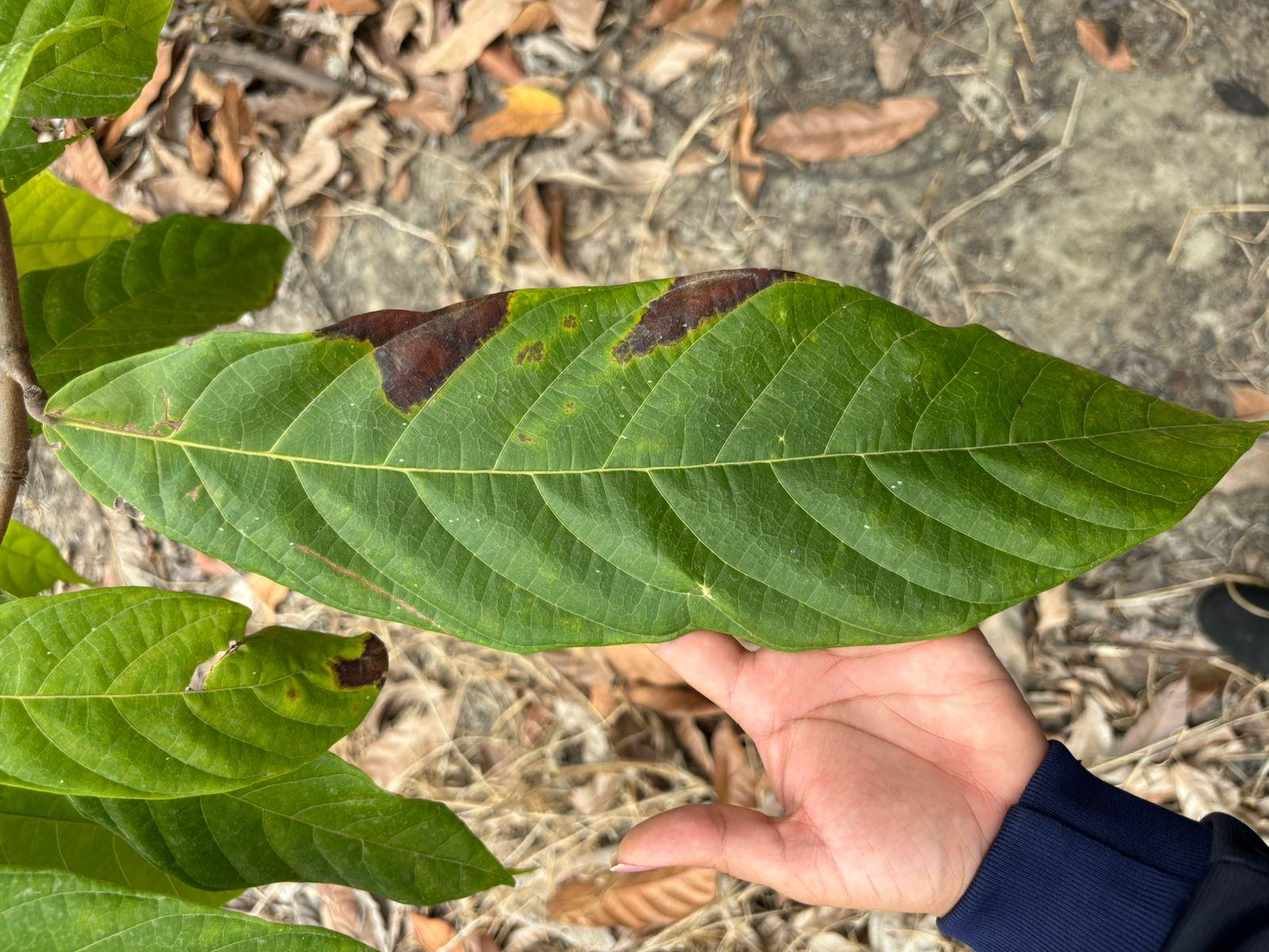deficiencia_potasio: (48, 268, 1268, 650)
